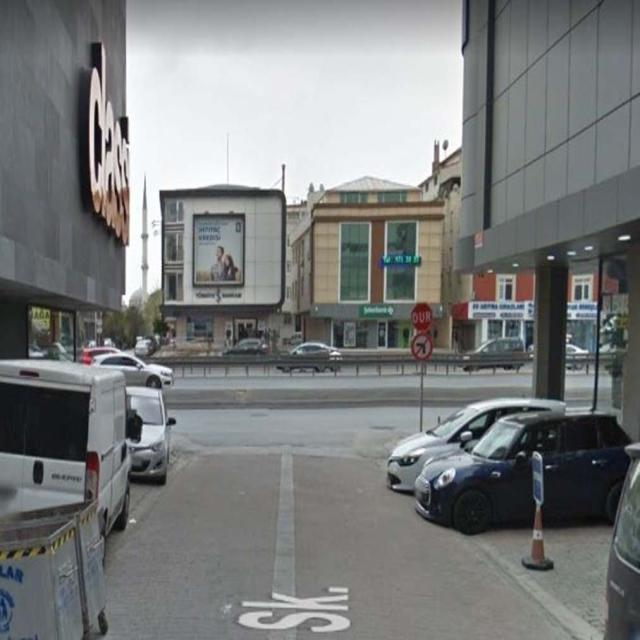dur: (411, 302, 433, 332)
soladonulmez: (412, 333, 433, 360)
